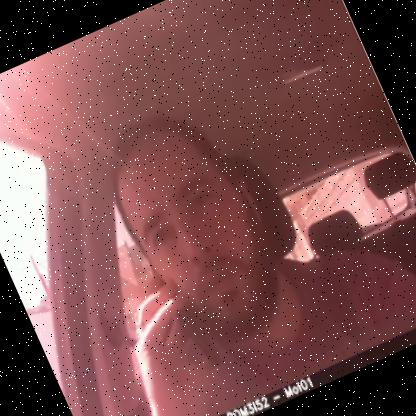phone: (130, 256, 235, 387)
